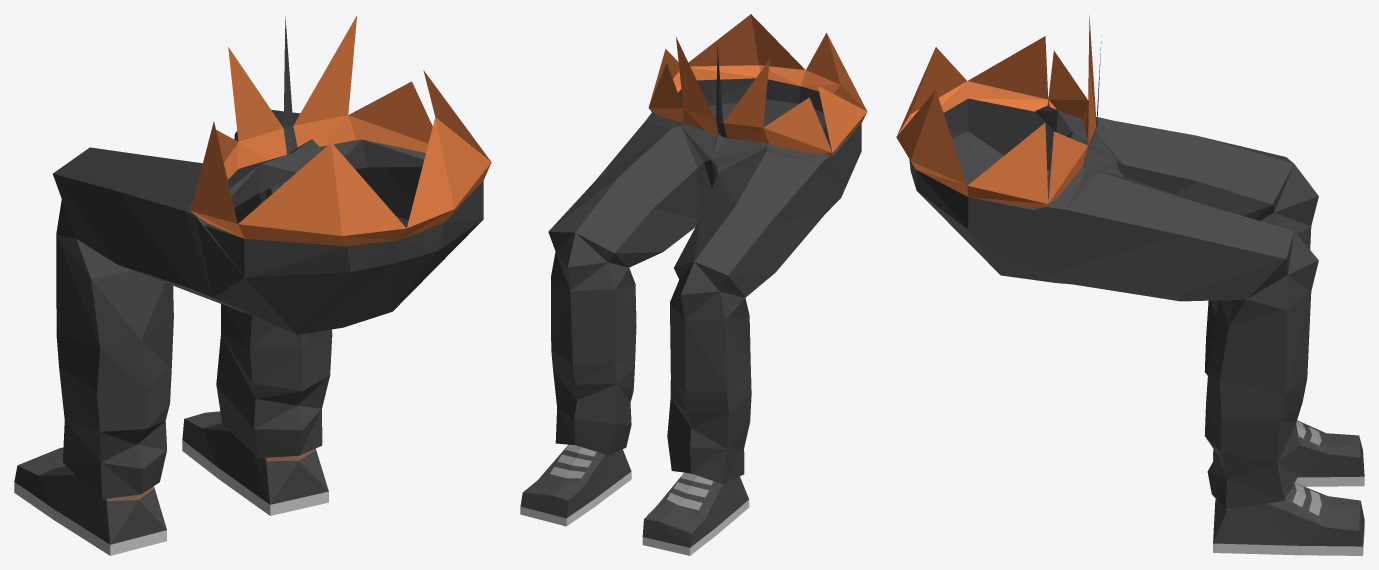
File: Son_01_Legs_79_04_C.obj
The picture shows the model from 3 angles, left to right: view 1: azimuth 30°, elevation 25°; view 2: azimuth 150°, elevation 25°; view 3: azimuth 270°, elevation 25°; orthographic projection. The views are drawn at different scales.
Parts seen in each view (by area): view 1: Son_01_Legs_79_04_C; view 2: Son_01_Legs_79_04_C; view 3: Son_01_Legs_79_04_C.
Boxes of the visible parts, x1,y1,x2,y2 form: Son_01_Legs_79_04_C: (14,16,491,555); Son_01_Legs_79_04_C: (520,14,867,555); Son_01_Legs_79_04_C: (896,15,1364,555).
Bounding box in the file's own units: 0.365 × 0.7748 × 0.6897.
Materials: 1 (1 with a texture image).
